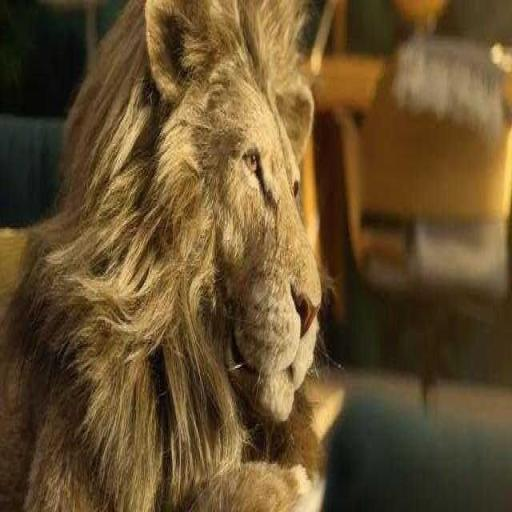Lion: (0, 0, 330, 509)
